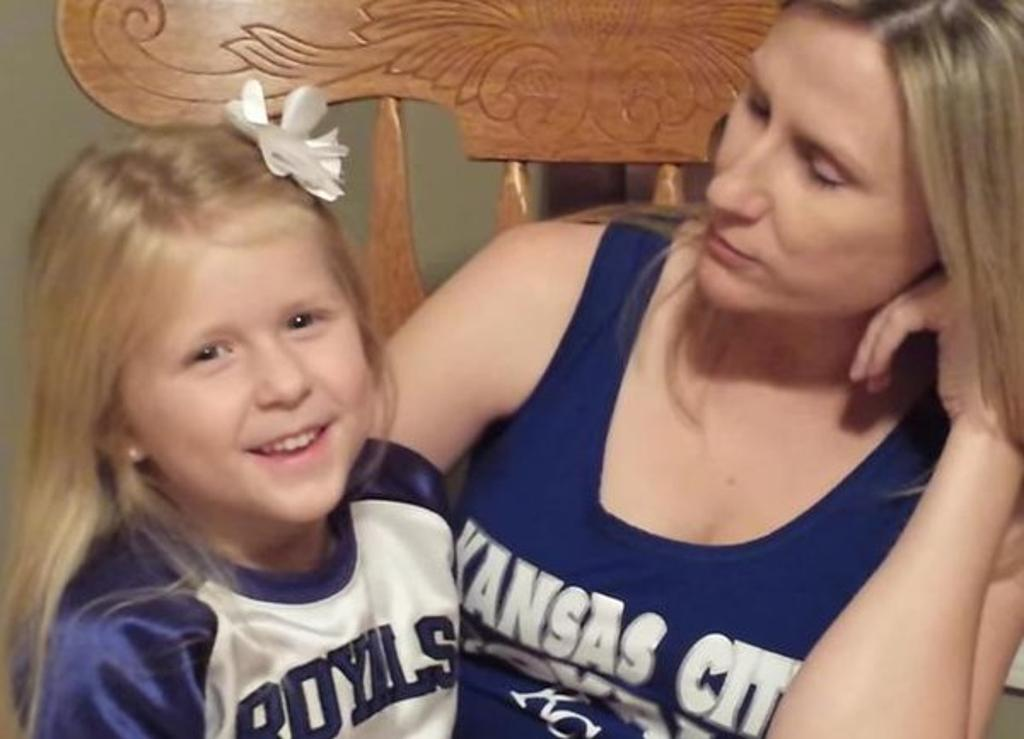face: (694, 22, 912, 312), (152, 232, 362, 520)
